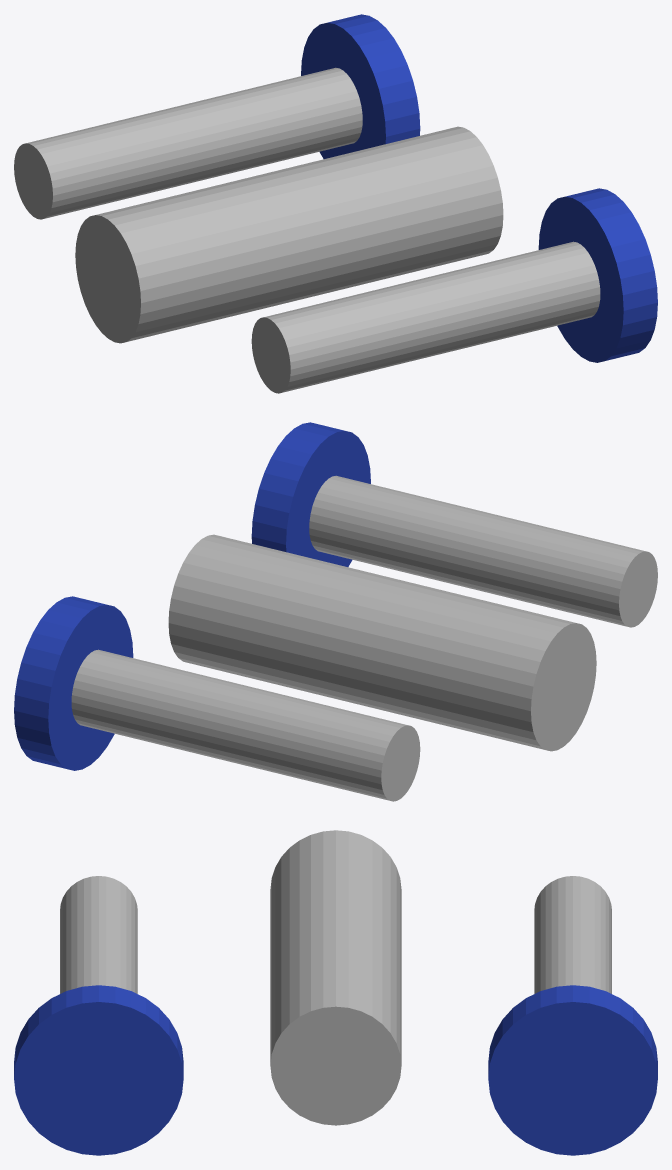
The model's file is Part8_frontPillars.fbx.
3 renders of one model, top to bottom at view 1: azimuth 30°, elevation 25°; view 2: azimuth 150°, elevation 25°; view 3: azimuth 270°, elevation 25°, orthographic.
Parts seen in each view (by area): view 1: PoleMiddleF, PoleLeftF, PorleRightF, DiskLeftF, DiskRightF; view 2: PoleMiddleF, PorleRightF, PoleLeftF, DiskRightF, DiskLeftF; view 3: PoleMiddleF, DiskLeftF, DiskRightF, PoleLeftF, PorleRightF.
Boxes of the visible parts, box(x1,y1,x2,y2) form: PoleMiddleF: box(75, 126, 503, 343); PoleLeftF: box(251, 241, 600, 393); PorleRightF: box(14, 67, 362, 219); DiskLeftF: box(538, 188, 657, 362); DiskRightF: box(301, 14, 420, 158); PoleMiddleF: box(168, 534, 596, 751); PorleRightF: box(71, 649, 420, 801); PoleLeftF: box(309, 475, 657, 627); DiskRightF: box(14, 596, 133, 770); DiskLeftF: box(251, 422, 370, 566); PoleMiddleF: box(270, 830, 401, 1125); DiskLeftF: box(14, 985, 183, 1155); DiskRightF: box(488, 985, 657, 1155); PoleLeftF: box(60, 876, 137, 993); PorleRightF: box(534, 876, 611, 993).
Size of the model in its own units: 1132 by 429 by 1629.
